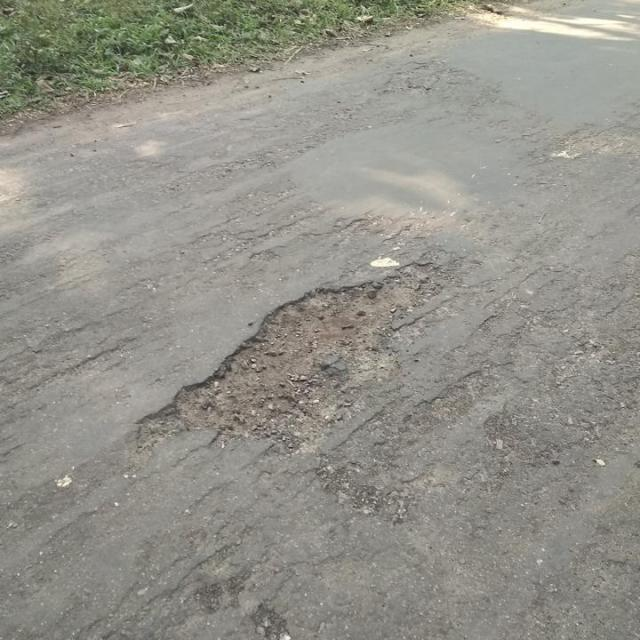Pothole: (129, 259, 453, 465)
